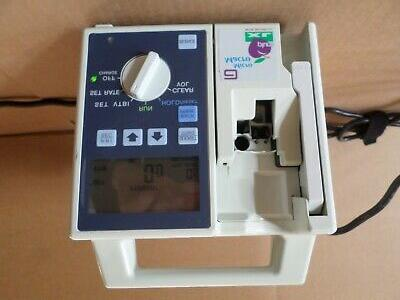plumxl1: (80, 27, 340, 288)
